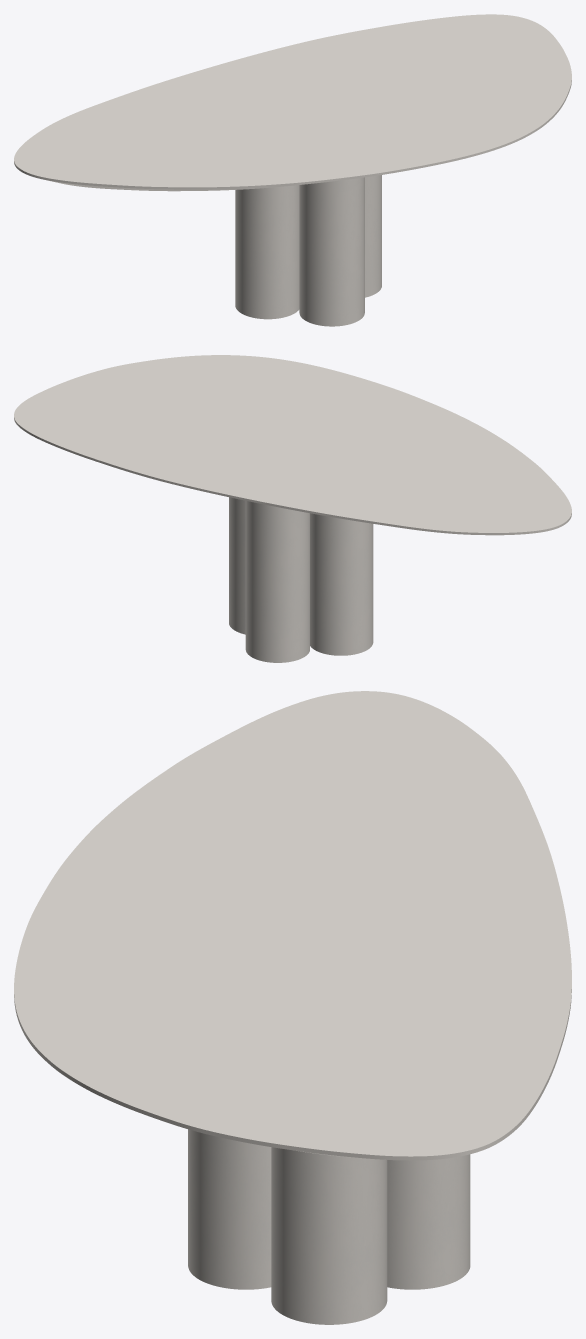
The model's file is pearlwhite_pebbletop_facet_secondtable.glb.
3 renders of one model, top to bottom at view 1: azimuth 30°, elevation 25°; view 2: azimuth 150°, elevation 25°; view 3: azimuth 270°, elevation 25°, orthographic. The views are drawn at different scales.
Visible parts, largest first — view 1: facet_pebbletop, secondtable; view 2: facet_pebbletop, secondtable; view 3: facet_pebbletop, secondtable.
Part boxes in pixels (x1,y1,x2,y2): facet_pebbletop: (14, 14, 571, 191); secondtable: (235, 175, 381, 326); facet_pebbletop: (14, 355, 571, 535); secondtable: (229, 497, 373, 662); facet_pebbletop: (14, 691, 571, 1160); secondtable: (188, 1129, 470, 1324).
Bounding box in the file's own units: 7.5 × 2.5 × 3.8.
1 material, 1 textured.
